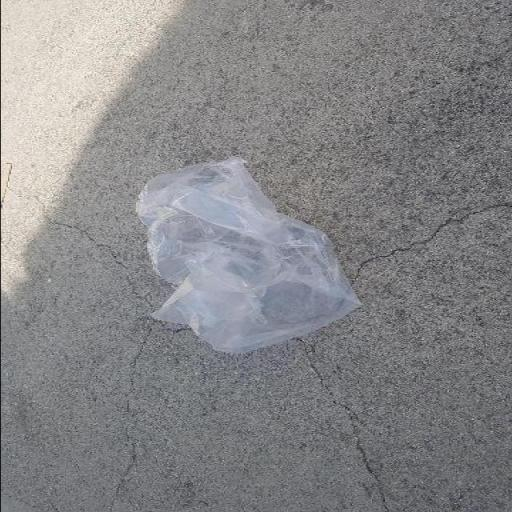plastic-bag: (130, 154, 365, 356)
